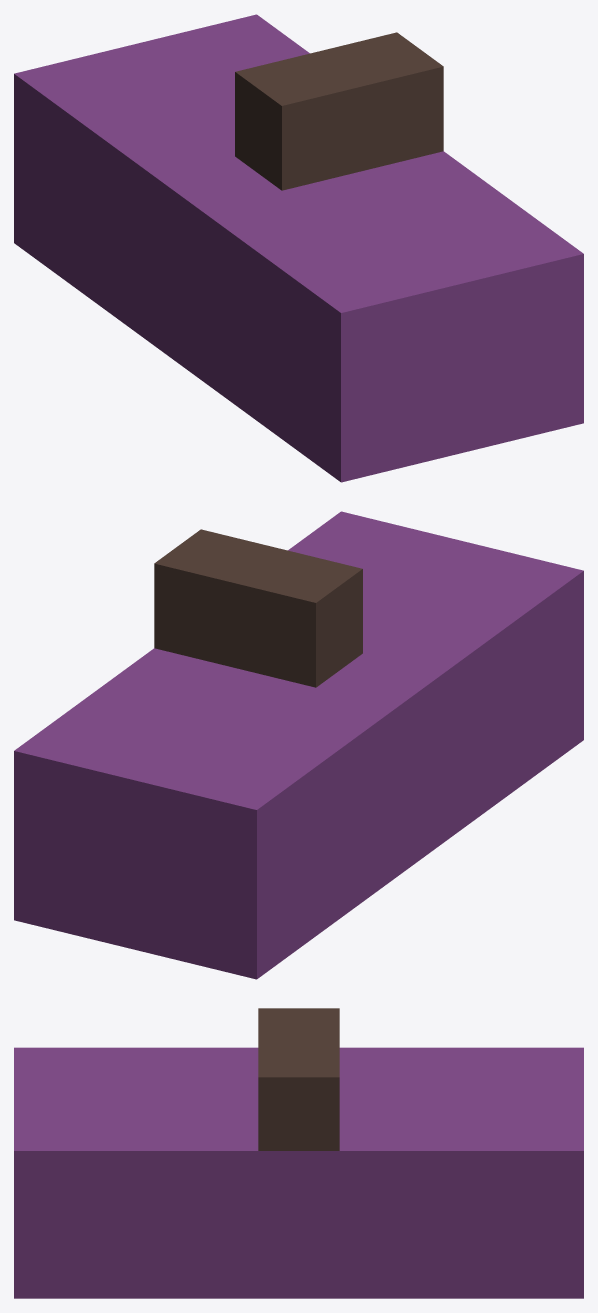
Rendered from cloth_epic_boot_foot_L_lod1.glb.
The picture shows the model from 3 angles, top to bottom: view 1: azimuth 30°, elevation 25°; view 2: azimuth 150°, elevation 25°; view 3: azimuth 270°, elevation 25°; orthographic projection. The views are drawn at different scales.
Parts seen in each view (by area): view 1: cloth_epic_boot_foot_L_lod1; view 2: cloth_epic_boot_foot_L_lod1; view 3: cloth_epic_boot_foot_L_lod1.
Boxes of the visible parts, <box> form: cloth_epic_boot_foot_L_lod1: <box>14,14,583,482</box>; cloth_epic_boot_foot_L_lod1: <box>14,511,583,979</box>; cloth_epic_boot_foot_L_lod1: <box>14,1008,583,1298</box>.
Bounding box in the file's own units: 0.144 × 0.144 × 0.336.
